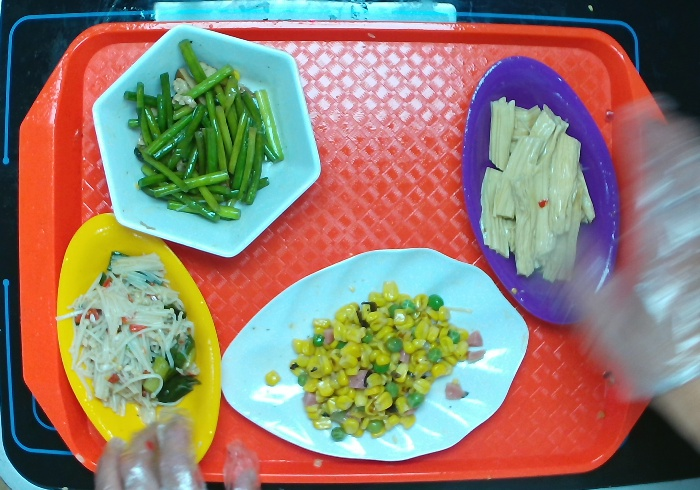RJxy-Bai_Ye_Pan: (220, 245, 527, 467)
RJxy-Fen_Hong_Tuo_Yuan: (460, 52, 623, 329)
RJxy-Huang_Se_Tuo_Yuan: (53, 208, 225, 463)
RJxy-Liu_Jiao_Wan: (89, 22, 327, 262)
